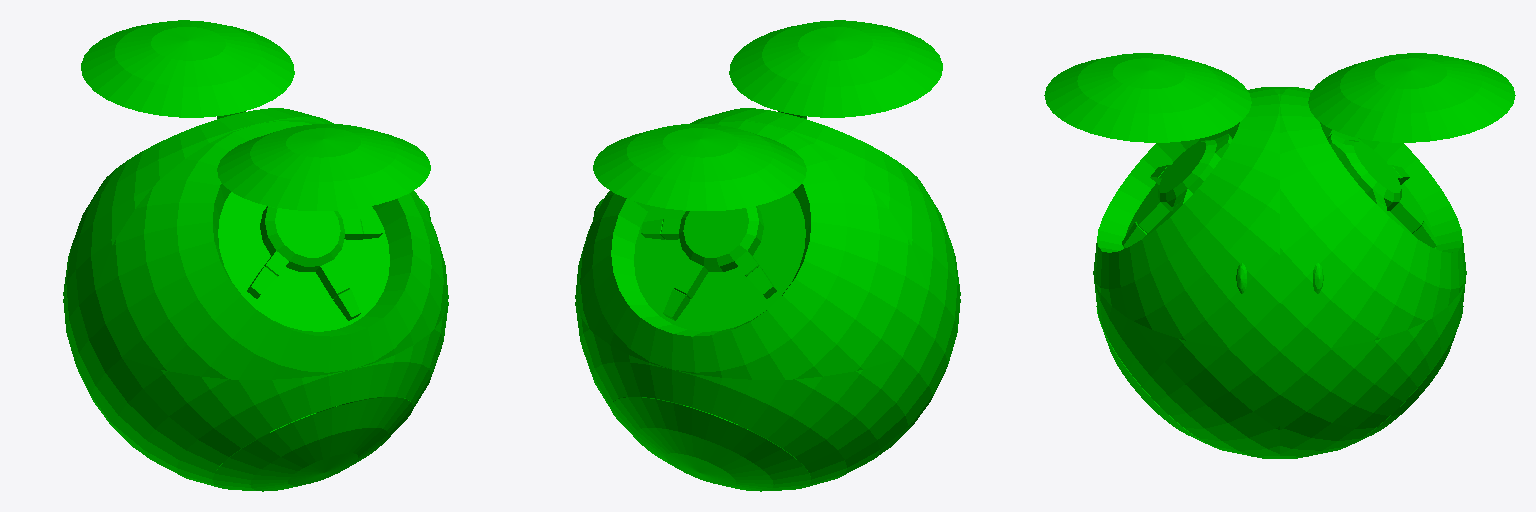
robot.urdf — haro:
<robot name="haro">

    <!-- Colours for RVIZ for geometric elements -->
    <material name="blue">
        <color rgba="0 0 0.8 1"/>
    </material>
    <material name="red">
        <color rgba="0.8 0 0 1"/>
    </material>
    <material name="green">
        <color rgba="0 0.8 0 1"/>
    </material>
    <material name="grey">
        <color rgba="0.75 0.75 0.75 1"/>
    </material>
    <material name="white">
        <color rgba="1.0 1.0 1.0 1"/>
    </material>
    <material name="black">
        <color rgba="0 0 0 1"/>
    </material>


	<!-- * * * Link Definitions * * * -->
    <link name="haro_base_link">
 	    <inertial>
            <origin xyz="0 0 0" rpy="0 0 0"/>
            <mass value="0.01" />
            <inertia ixx="1.28e-06" ixy="0.0" ixz="0.0" iyy="1.28e-06" iyz="0.0" izz="1.28e-06"/>
        </inertial>
        <visual>
            <origin rpy="0.0 0 0" xyz="0 0 0"/>
            <geometry>
                <sphere radius="0.008"/>
            </geometry>
            <material name="black"/>
        </visual>
	</link>
	
	<gazebo reference="haro_base_link">
        <material>Gazebo/Black</material>
        <gravity>0</gravity>
    </gazebo>

    <link name="body_link">
 	    <inertial>
            <origin xyz="0 0 0" rpy="0 0 0"/>
            <mass value="1.0" />
            <inertia ixx="0.00576" ixy="0.0" ixz="0.0" iyy="0.00576" iyz="0.0" izz="0.00576"/>
        </inertial>
        <collision>
            <origin xyz="0 0 0" rpy="0 0 0"/>
            <geometry>
                <sphere radius="0.1"/>
            </geometry>
        </collision>
        <visual>
            <origin rpy="0.0 0 0" xyz="0 0 0"/>
            <geometry>
                <!--<sphere radius="0.12"/>-->
                <mesh filename="package://haro_description/meshes/haro_gundam_green_v4.dae" scale="1 1 1"/>
            </geometry>
            <material name="green"/>
        </visual>
    </link>
    
    <gazebo reference="body_link">
        <kp>100000.0</kp>
        <kd>100000.0</kd>
        <mu1>10.0</mu1>
        <mu2>10.0</mu2>
        <material>Gazebo/Green</material>
        <gravity>0</gravity>
    </gazebo>


    <joint name="body_link_joint" type="fixed">
        <parent link="haro_base_link"/>
        <child link="body_link"/>
        <origin xyz="0 0 0" rpy="0 0 0"/>
    </joint>
    
</robot>

--- Render facts (derived) ---
3 views of the same robot in one strip: view 1: azimuth 30°, elevation 25°; view 2: azimuth 150°, elevation 25°; view 3: azimuth 270°, elevation 25° (orthographic).
Robot: haro — 2 links, 1 joints (1 fixed); root link haro_base_link; default pose: all joints at 0.
Visible links, largest first — view 1: body_link; view 2: body_link; view 3: body_link.
Boxes of the visible links, bbox=[...] form: body_link: bbox=[63, 20, 448, 491]; body_link: bbox=[575, 20, 960, 491]; body_link: bbox=[1044, 53, 1515, 458].
Bounding box of the posed robot: 0.2 × 0.2523 × 0.2196 m (x, y, z).
Meshes: 1 distinct files referenced, 1 mesh visuals loaded (1 Collada DAE).
